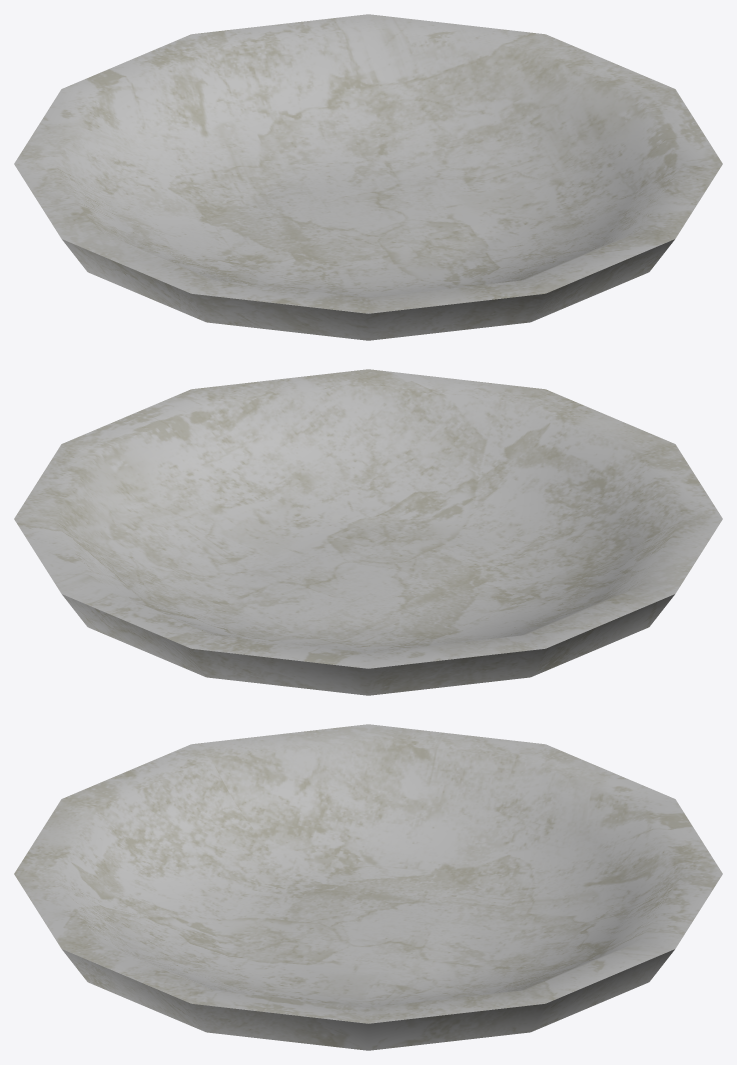
File: Plate.glb
3 renders of one model, top to bottom at view 1: azimuth 30°, elevation 25°; view 2: azimuth 150°, elevation 25°; view 3: azimuth 270°, elevation 25°, orthographic.
Visible parts, largest first — view 1: Plate; view 2: Plate; view 3: Plate.
Boxes of the visible parts, left/top/right/bottom form: Plate: left=14, top=14, right=722, bottom=340; Plate: left=14, top=369, right=722, bottom=695; Plate: left=14, top=724, right=722, bottom=1050.
Size of the model in its own units: 0.2426 by 0.0231 by 0.2426.
1 material, 1 textured.
